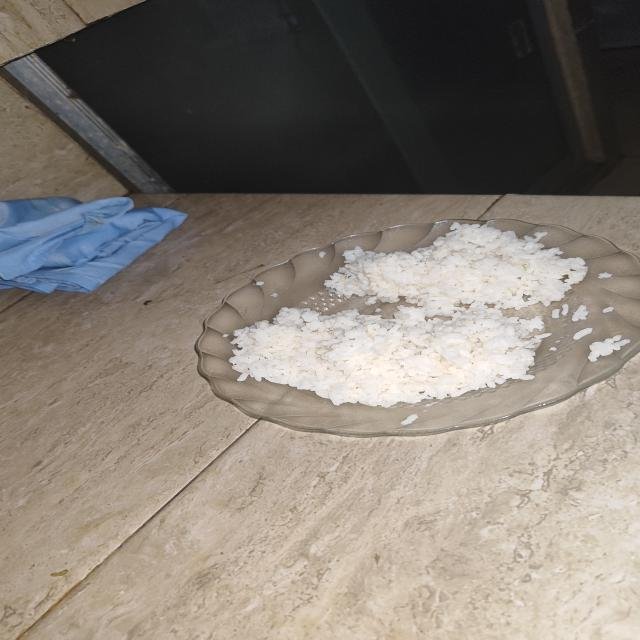nasi_putih: (230, 305, 544, 408), (325, 221, 588, 319)
